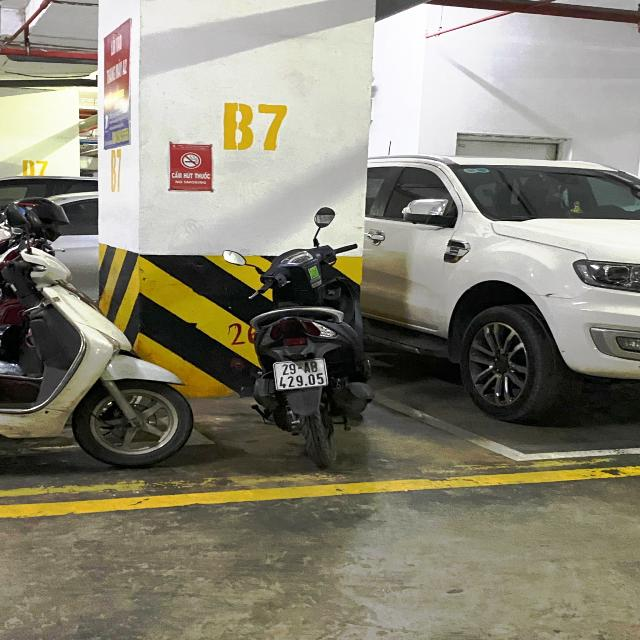license_plate: (271, 356, 332, 396)
